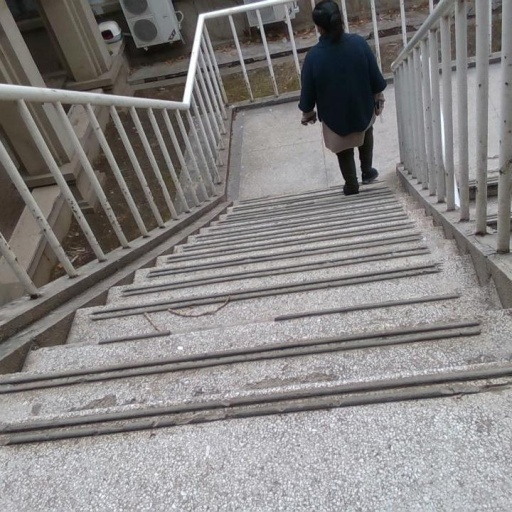Stairs: (2, 184, 512, 512)
